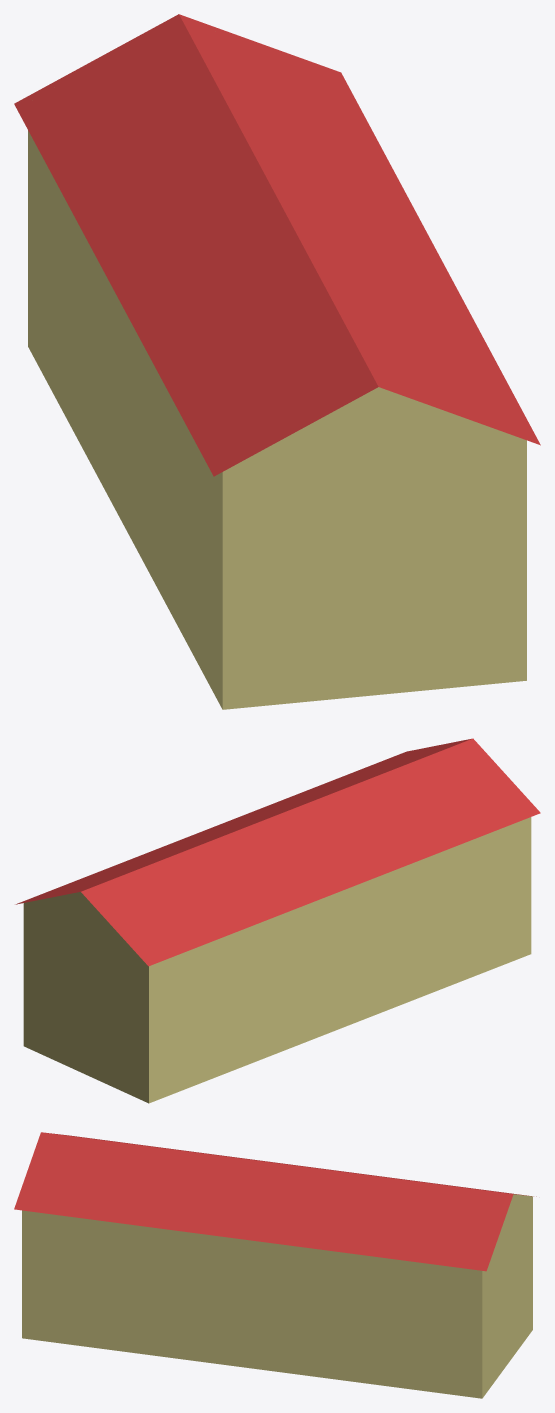
The picture shows the model from 3 angles, top to bottom: view 1: azimuth 30°, elevation 25°; view 2: azimuth 150°, elevation 25°; view 3: azimuth 270°, elevation 25°; orthographic projection. The views are drawn at different scales.
Parts seen in each view (by area): view 1: group_5, group_3, group_4; view 2: group_5, group_3, group_4; view 3: group_5, group_3.
Boxes of the visible parts, <box> form: group_5: <box>28,130,526,709</box>; group_3: <box>28,14,540,476</box>; group_4: <box>14,14,378,474</box>; group_5: <box>23,817,531,1103</box>; group_3: <box>15,738,540,958</box>; group_4: <box>65,738,534,966</box>; group_5: <box>22,1194,532,1398</box>; group_3: <box>14,1132,526,1271</box>.
Bounding box in the file's own units: 25.17 × 41.2 × 14.77.
